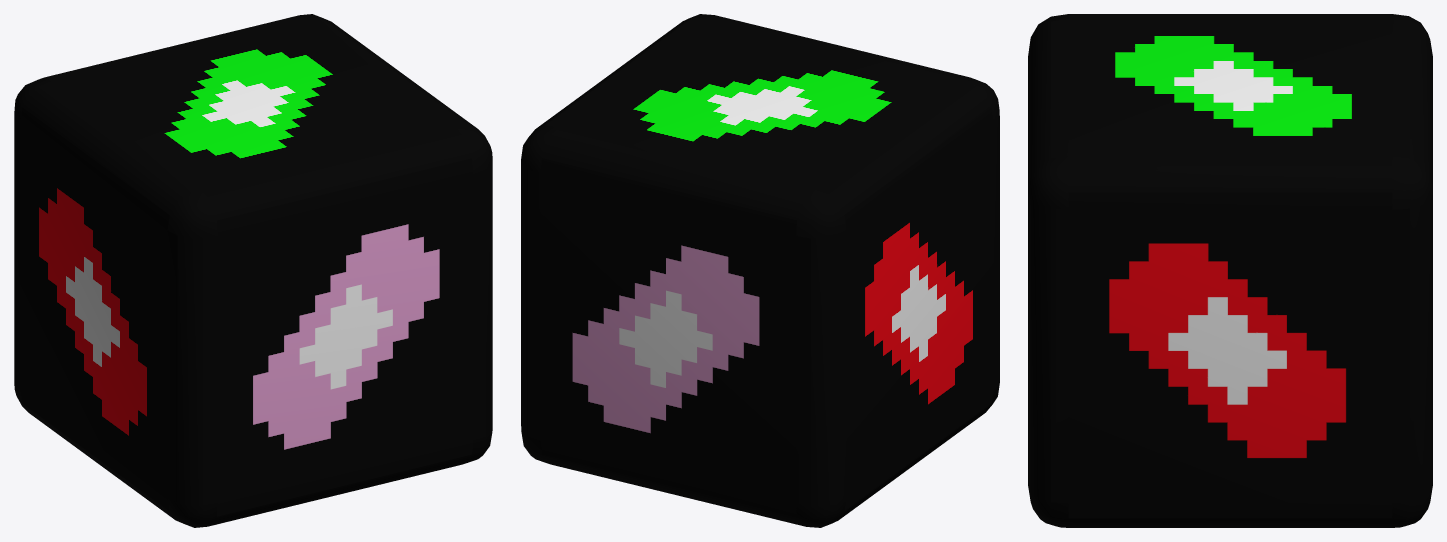
The picture shows the model from 3 angles, left to right: view 1: azimuth 30°, elevation 25°; view 2: azimuth 150°, elevation 25°; view 3: azimuth 270°, elevation 25°; orthographic projection. The views are drawn at different scales.
Visible parts, largest first — view 1: Object001, Dice; view 2: Object001, Dice; view 3: Object001, Dice.
Boxes of the visible parts, <box> form: Object001: <box>14,15,485,516</box>; Dice: <box>14,14,492,527</box>; Object001: <box>528,15,999,516</box>; Dice: <box>521,14,999,527</box>; Object001: <box>1028,14,1432,518</box>; Dice: <box>1028,14,1432,527</box>.
Bounding box in the file's own units: 112 × 112 × 112.
